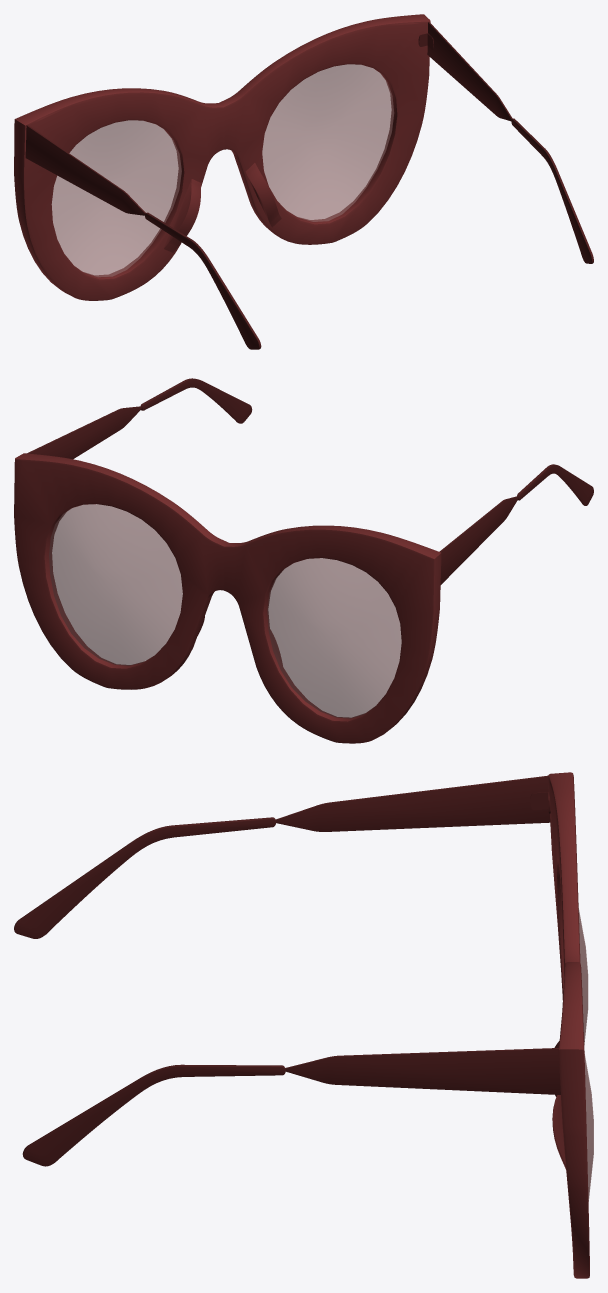
3 renders of one model, top to bottom at view 1: azimuth 30°, elevation 25°; view 2: azimuth 150°, elevation 25°; view 3: azimuth 270°, elevation 25°, orthographic. The views are drawn at different scales.
Visible parts, largest first — view 1: frame1, Object001, frame_02; view 2: frame1, Object001, frame_02; view 3: frame_02, frame1, Object001.
Part boxes in pixels (left/top/right/bottom): frame1: left=14, top=14, right=430, bottom=300; Object001: left=51, top=64, right=394, bottom=277; frame_02: left=25, top=21, right=593, bottom=349; frame1: left=14, top=453, right=441, bottom=743; Object001: left=49, top=504, right=401, bottom=718; frame_02: left=27, top=378, right=593, bottom=584; frame_02: left=14, top=775, right=560, bottom=1166; frame1: left=548, top=772, right=589, bottom=1278; Object001: left=578, top=908, right=593, bottom=1200.
Bounding box in the file's own units: 16.33 × 8.02 × 14.32.
